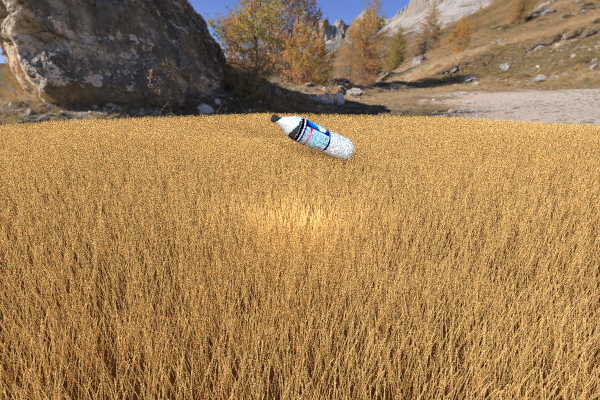bottle: (270, 114, 354, 160)
can: (58, 122, 125, 154), (497, 125, 558, 149)
